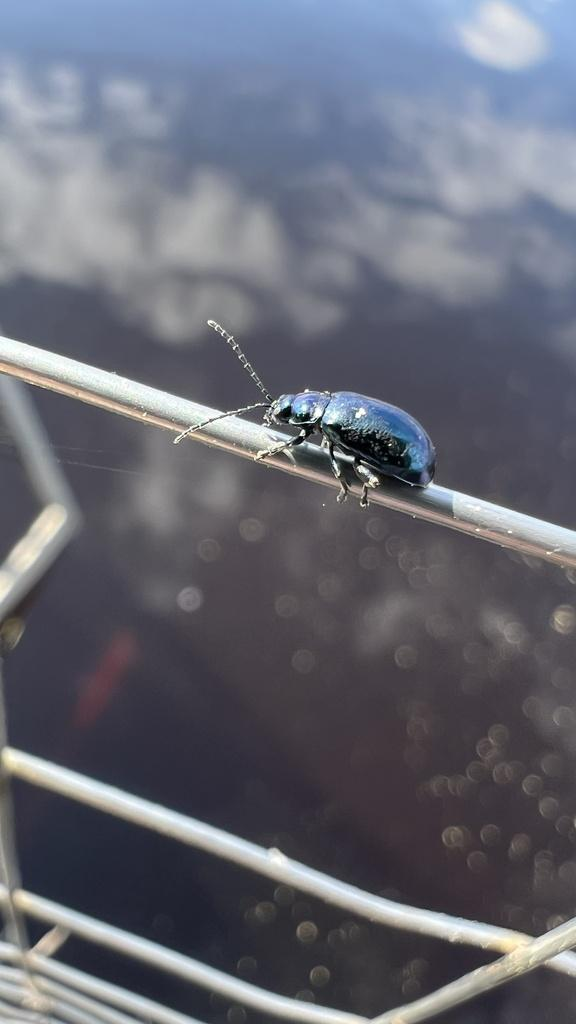flea_beetle: (130, 231, 468, 548)
